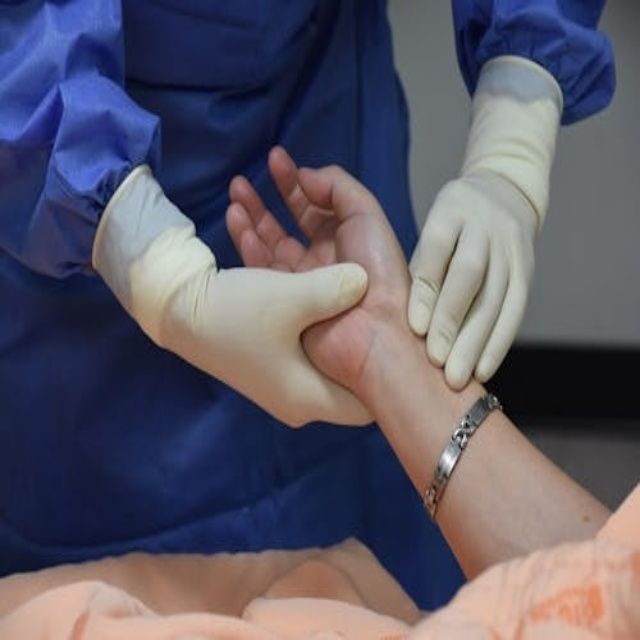Guantes: (93, 164, 373, 429), (404, 51, 569, 391)
Sin_guantes: (225, 143, 433, 439)
